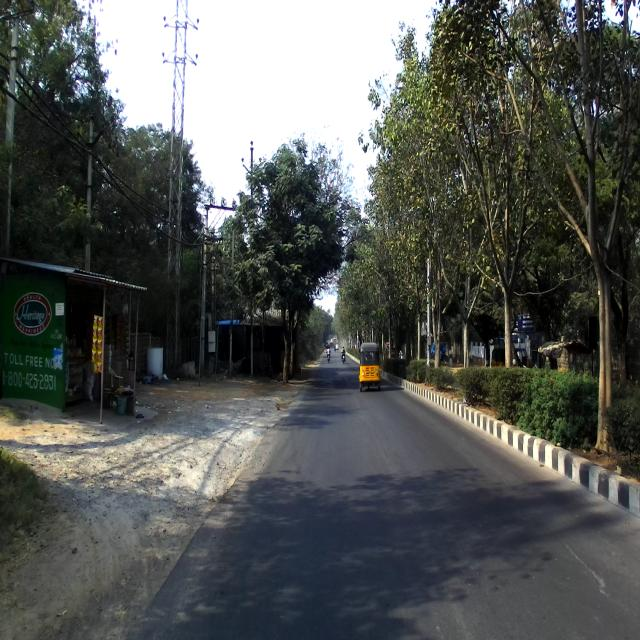auto ahead at: (356, 336, 384, 398)
tree ahead at: (250, 141, 318, 387)
